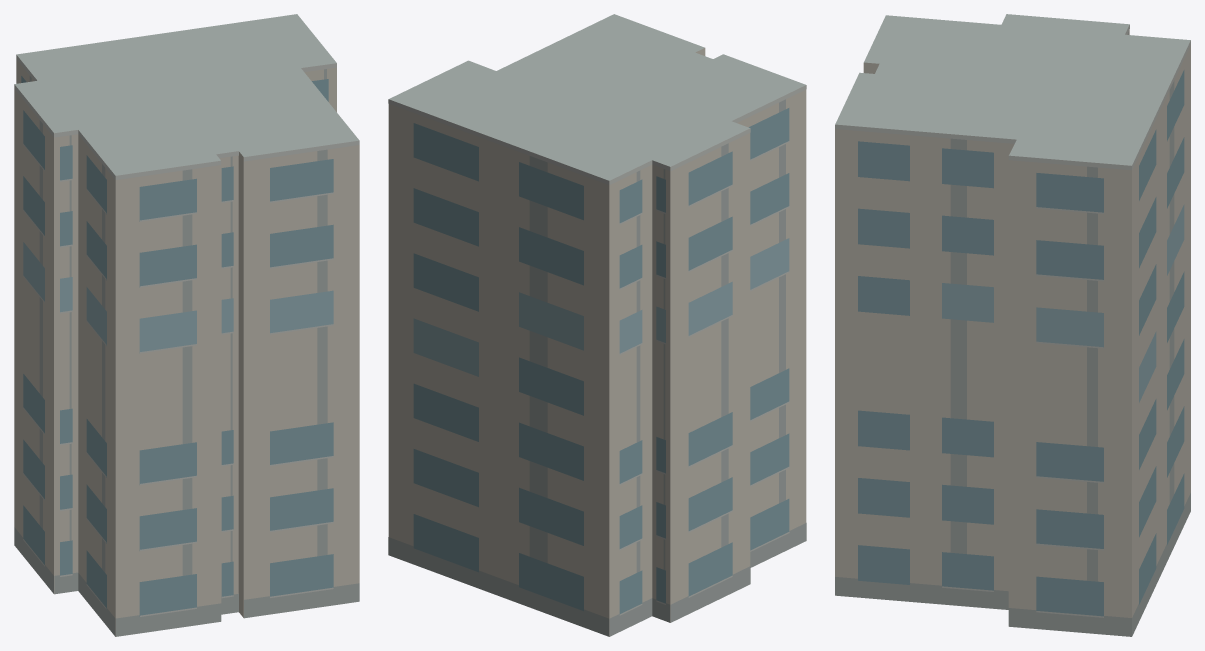
The model's file is survey-upis-32977450.glb.
The picture shows the model from 3 angles, left to right: view 1: azimuth 30°, elevation 25°; view 2: azimuth 150°, elevation 25°; view 3: azimuth 270°, elevation 25°; orthographic projection. The views are drawn at different scales.
Visible parts, largest first — view 1: survey-upis-32977450.tmp; view 2: survey-upis-32977450.tmp; view 3: survey-upis-32977450.tmp.
Boxes of the visible parts, bbox=[...] form: survey-upis-32977450.tmp: bbox=[14, 14, 359, 636]; survey-upis-32977450.tmp: bbox=[388, 14, 806, 636]; survey-upis-32977450.tmp: bbox=[835, 14, 1190, 636].
Bounding box in the file's own units: 17.56 × 25.4 × 17.39.
